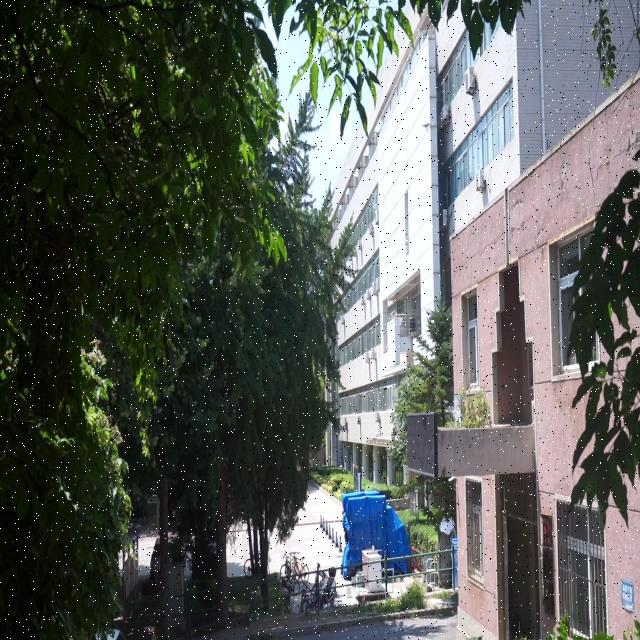UAV: (422, 121, 433, 131)
